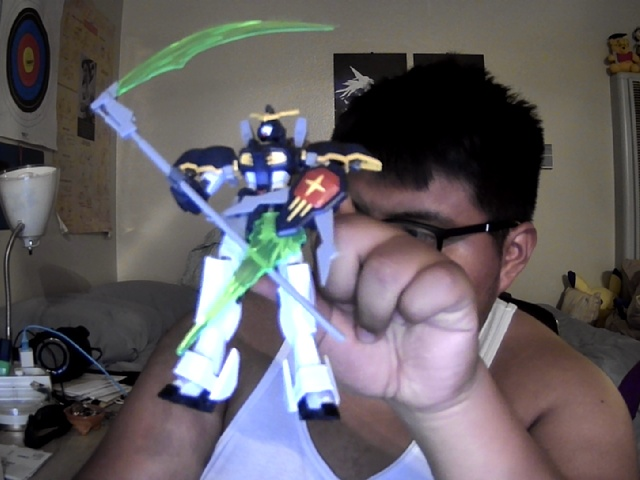Deathsythe: (90, 19, 383, 420)
